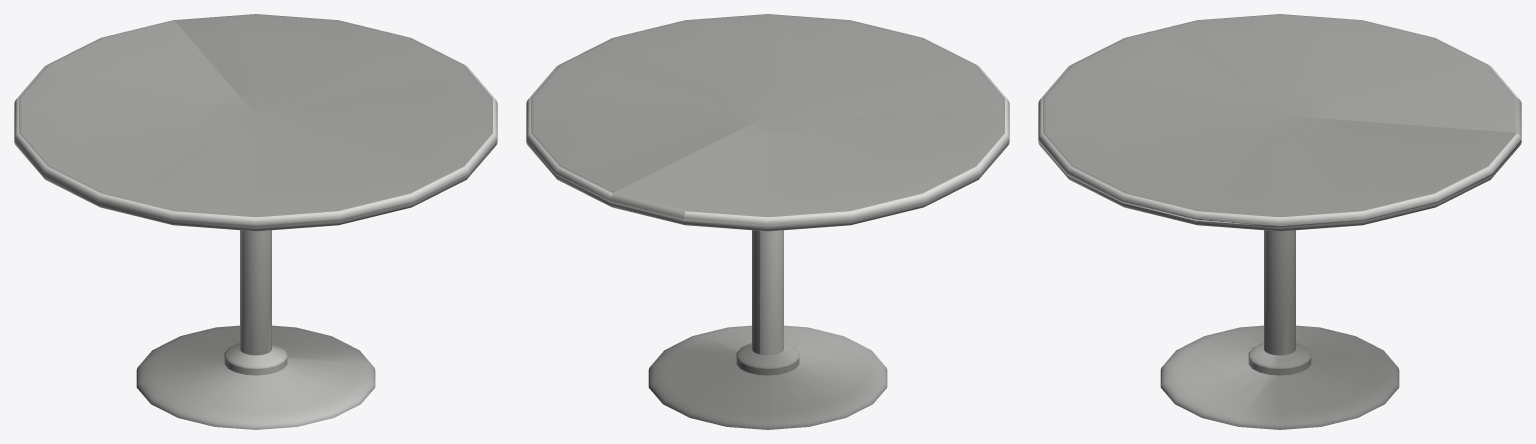
Rendered from Round Table.FBX.
3 views of the same model, side by side, from view 1: azimuth 30°, elevation 25°; view 2: azimuth 150°, elevation 25°; view 3: azimuth 270°, elevation 25° (orthographic).
Parts seen in each view (by area): view 1: Cylinder001, Cylinder002; view 2: Cylinder001, Cylinder002; view 3: Cylinder001, Cylinder002.
Boxes of the visible parts, x1,y1,x2,y2 form: Cylinder001: (14, 14, 497, 231); Cylinder002: (136, 230, 375, 429); Cylinder001: (526, 14, 1009, 231); Cylinder002: (648, 230, 887, 429); Cylinder001: (1038, 14, 1521, 231); Cylinder002: (1160, 230, 1399, 429).
Bounding box in the file's own units: 60 × 35.55 × 59.09.
2 materials, 2 textured.
